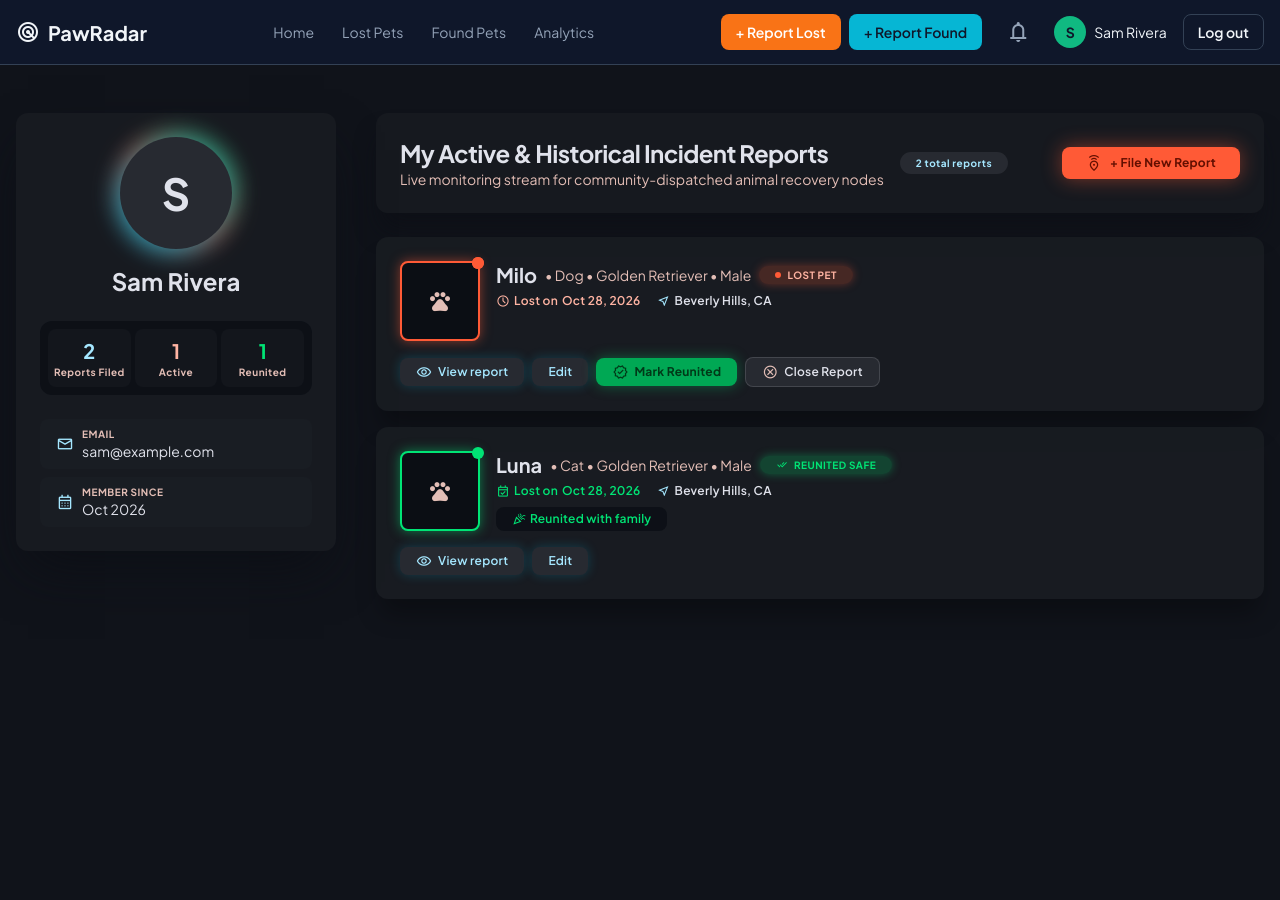
Test case: ProfileCard › updates the counts right after a pet is marked reunited
This screenshot has width=1280, height=900.
Expected: the text "2" is shown, [83,337,95,365]
Expected: the 1st text "1" is shown, [172,337,180,365]
Click the button "Mark Reunited" at coordinates (667, 372), box [596,358,737,386]
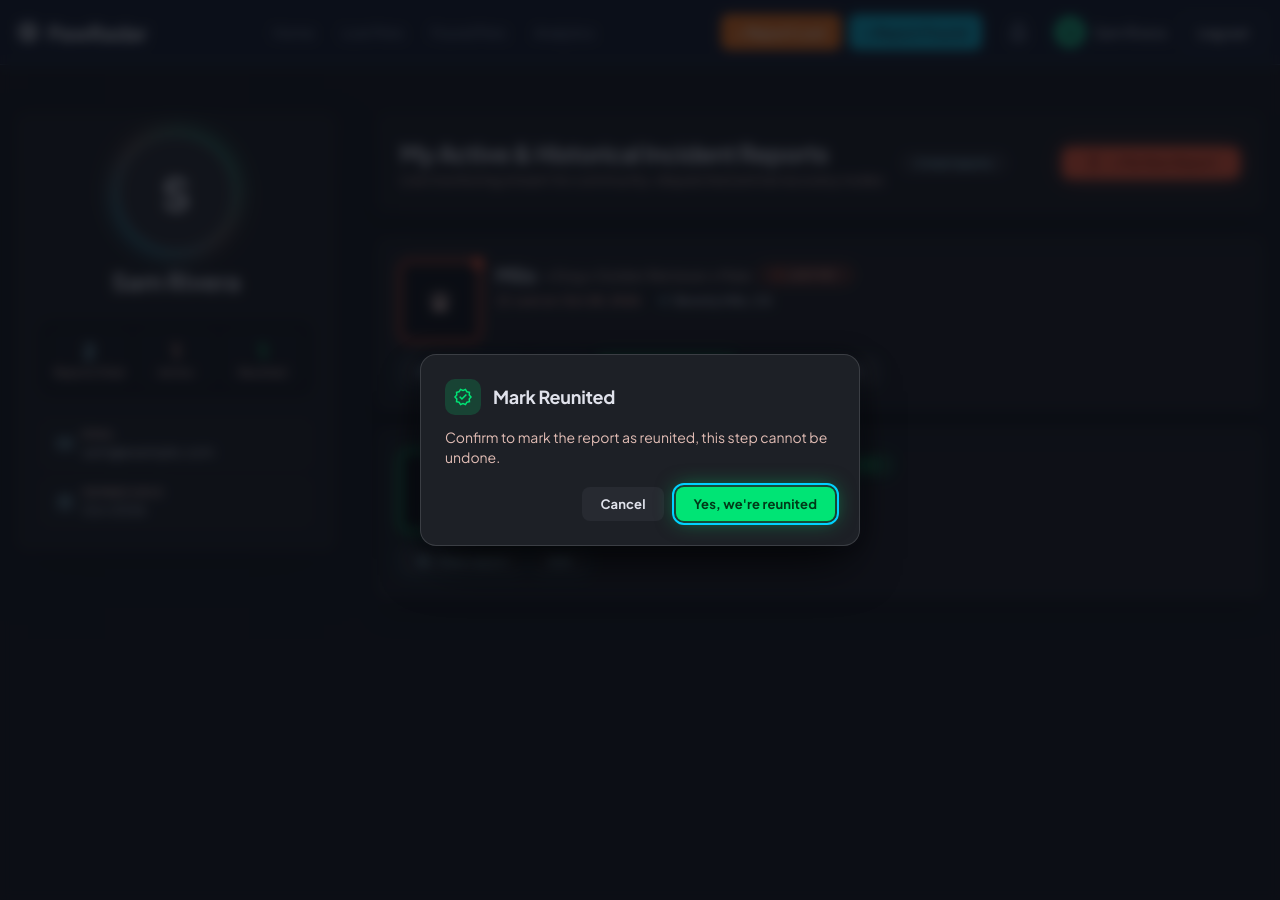
Click the button "Yes, we're reunited" at coordinates (755, 504), box [676,487,835,521]
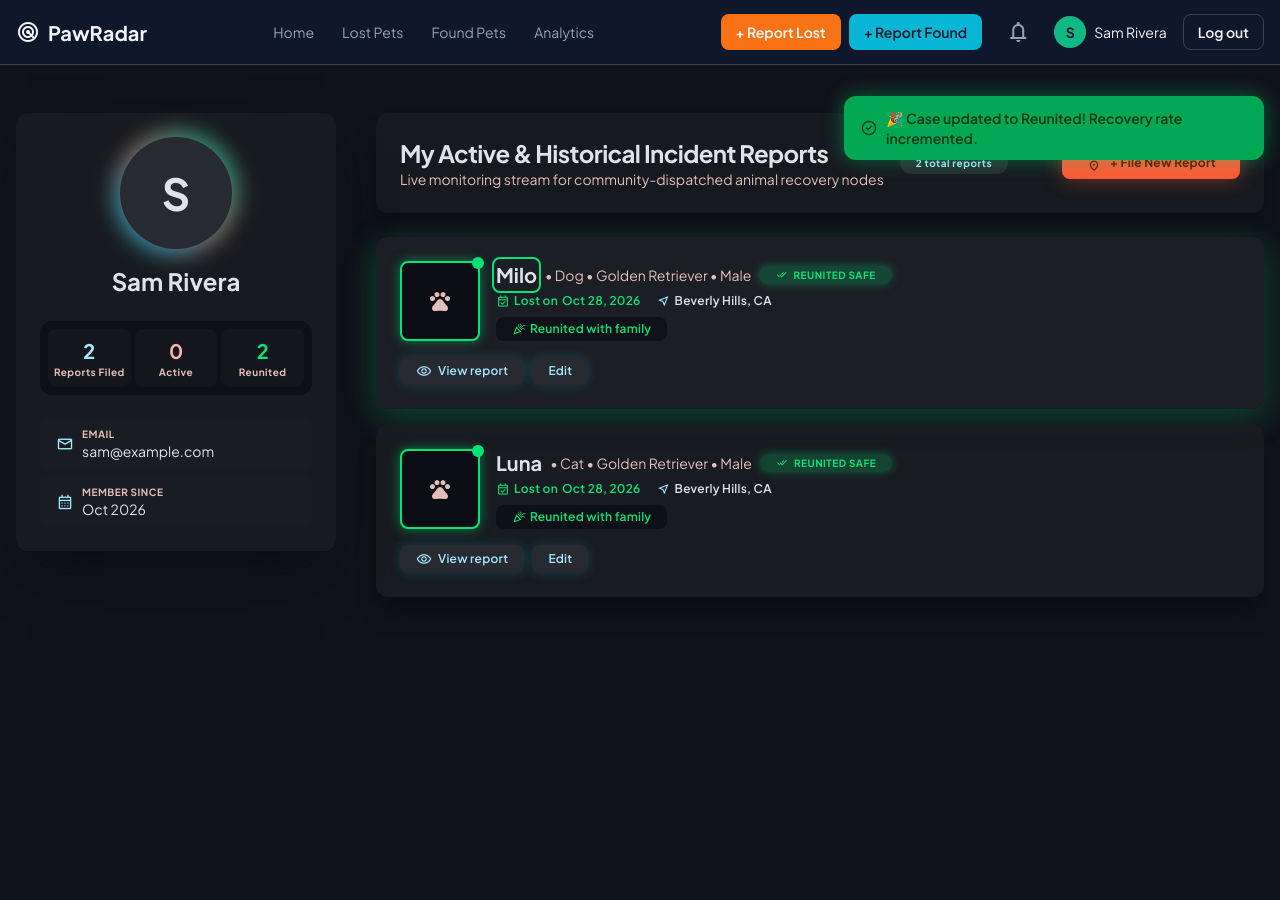
Now the text "🎉 Case updated to Reunited! Recovery rate incremented." is shown, box [886,109,1182,147]
Now the text "0" is shown, box [169,337,183,365]
Now the 2nd text "2" is shown, box [257,337,269,365]
